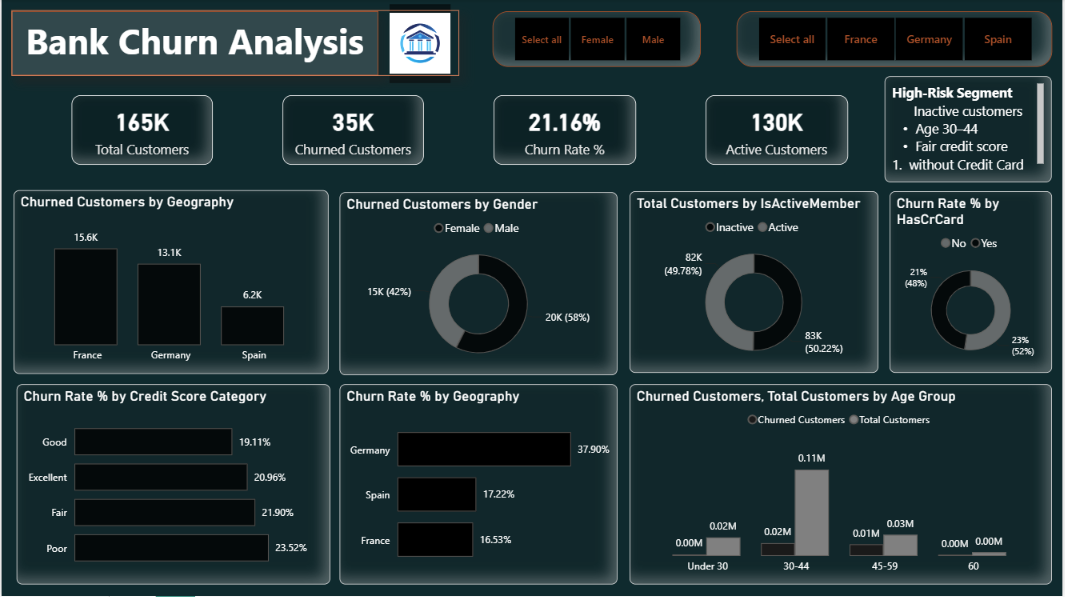

The dashboard page shown, as its layout file describes it:
{"tool":"powerbi","page":{"name":"c","canvas":[1280,720],"ordinal":0},"visuals":[{"type":"textbox","box":[12.5,15,442.5,77.5],"z":0},{"type":"card","fields":{"Values":["train.Total Customers"]},"box":[84.1,115.2,170.7,84.1],"z":1000},{"type":"card","fields":{"Values":["train.Churned Customers"]},"box":[338.6,115.2,170.7,84.1],"z":2000},{"type":"card","fields":{"Values":["train.Churn Rate %"]},"box":[593.1,115.2,172,84.1],"z":3000},{"type":"card","fields":{"Values":["train.Active Customeres"]},"box":[848.8,115.2,172,84.1],"z":4000},{"type":"clusteredColumnChart","title":"Churned Customers by Geography","fields":{"Category":["train.Geography"],"Y":["train.Churned Customers"]},"box":[15,230,380,221.2],"z":5000},{"type":"donutChart","fields":{"Category":["train.Gender"],"Y":["train.Churned Customers"]},"box":[407.8,232.7,335.4,220.7],"z":6000},{"type":"slicer","fields":{"Values":["train.Gender"]},"box":[592.7,14.6,251.2,67.1],"z":7000},{"type":"slicer","fields":{"Values":["train.Geography"]},"box":[886.6,14.6,380.5,67.1],"z":8000},{"type":"donutChart","fields":{"Category":["train.IsActiveMember"],"Y":["train.Total Customers"]},"box":[757.3,231.7,300,219.5],"z":9000},{"type":"clusteredColumnChart","title":"Churned Customers, Total Customers by Age Group","fields":{"Category":["train.Age Group"],"Y":["train.Churned Customers","train.Total Customers"]},"box":[757.3,464.6,509.8,241.5],"z":10000},{"type":"clusteredBarChart","title":"Churn Rate % by Credit Score Category","fields":{"Category":["train.Credit Score Category"],"Y":["train.Churn Rate %"]},"box":[17.6,464.4,378,241.5],"z":11000},{"type":"image","box":[467.5,6.2,73.8,95],"z":12000},{"type":"textbox","box":[1065.9,92.7,201.2,128],"z":13000},{"type":"clusteredBarChart","title":"Churn Rate % by Geography","fields":{"Category":["train.Geography"],"Y":["train.Churn Rate %"]},"box":[407.8,464.4,335.4,241.5],"z":14000},{"type":"donutChart","fields":{"Category":["train.HasCrCard"],"Y":["train.Churn Rate %"]},"box":[1070.7,231.7,196.3,219.5],"z":15000},{"type":"textbox","box":[12.2,13.4,540.2,79.3],"z":16000}]}

Visuals, with their boxes in screenshot pixels (x1, y1, x2, y2), scaled from the page's 1280x720 canvas onto the 1065x597 screenshot:
textbox: Rect(10, 12, 379, 77)
card - train.Total Customers: Rect(70, 96, 212, 165)
card - train.Churned Customers: Rect(282, 96, 424, 165)
card - train.Churn Rate %: Rect(493, 96, 637, 165)
card - train.Active Customeres: Rect(706, 96, 849, 165)
"Churned Customers by Geography" clusteredColumnChart: Rect(12, 191, 329, 374)
donutChart - train.Gender x train.Churned Customers: Rect(339, 193, 618, 376)
slicer - train.Gender: Rect(493, 12, 702, 68)
slicer - train.Geography: Rect(738, 12, 1054, 68)
donutChart - train.IsActiveMember x train.Total Customers: Rect(630, 192, 880, 374)
"Churned Customers, Total Customers by Age Group" clusteredColumnChart: Rect(630, 385, 1054, 585)
"Churn Rate % by Credit Score Category" clusteredBarChart: Rect(15, 385, 329, 585)
image: Rect(389, 5, 450, 84)
textbox: Rect(887, 77, 1054, 183)
"Churn Rate % by Geography" clusteredBarChart: Rect(339, 385, 618, 585)
donutChart - train.HasCrCard x train.Churn Rate %: Rect(891, 192, 1054, 374)
textbox: Rect(10, 11, 460, 77)
